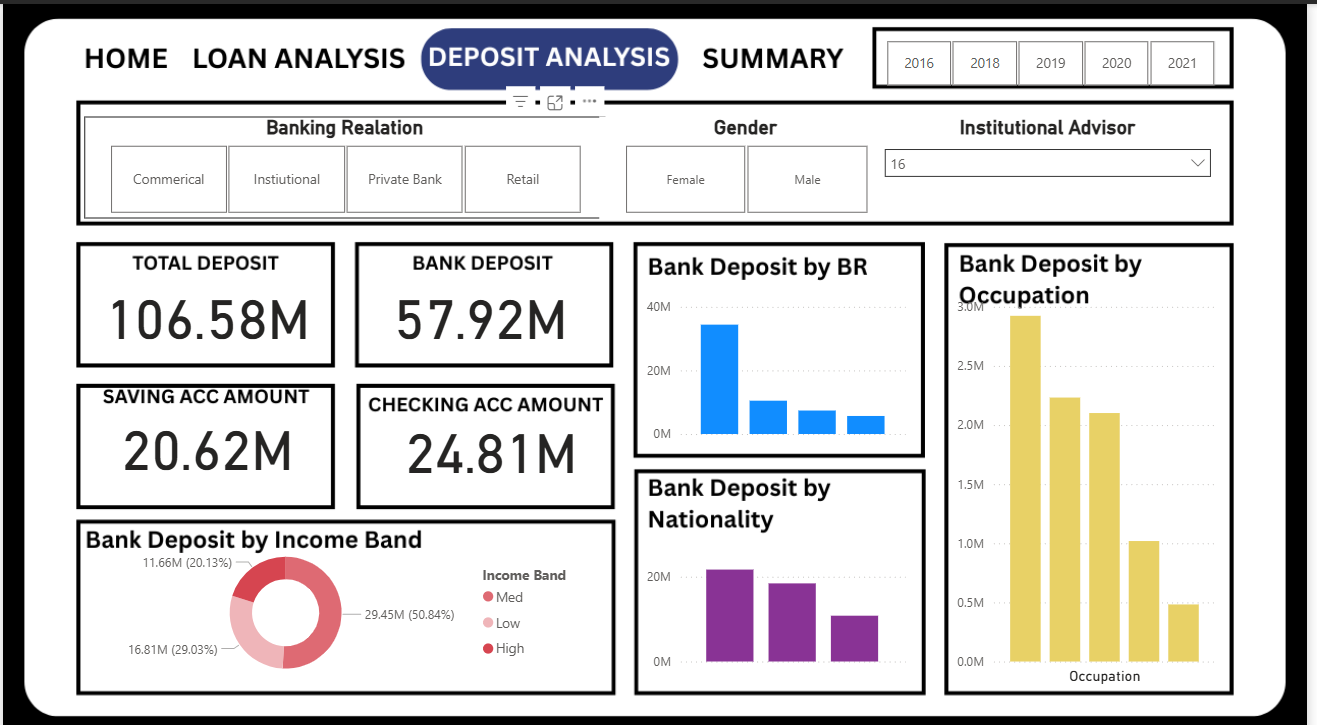

Layout of this report page (visuals, bound fields, positions):
{"tool":"powerbi","page":{"name":"DEPOSIT ANA","canvas":[1280,720],"ordinal":2},"visuals":[{"type":"slicer","title":"JOINING YEAR","fields":{"Values":["Banking_Clients.Joined Bank.Variation.Date Hierarchy.Year"]},"box":[841.4,30,371.4,57.1],"z":0},{"type":"actionButton","box":[67.1,30,101.4,45.7],"z":1},{"type":"actionButton","box":[168.6,35.7,245.7,45.7],"z":2},{"type":"actionButton","box":[680,30,151.4,45.7],"z":3},{"type":"card","title":"TOTAL LOAN","fields":{"Values":["Banking_Clients.Total Depost"]},"box":[77.1,282.9,247.1,60],"z":4},{"type":"card","title":"TOTAL LOAN","fields":{"Values":["Sum(Banking_Clients.Bank Deposits)"]},"box":[344.3,282.9,247.1,61.4],"z":5},{"type":"card","title":"TOTAL LOAN","fields":{"Values":["Sum(Banking_Clients.Saving Accounts)"]},"box":[77.1,410,247.1,65.7],"z":6},{"type":"card","title":"TOTAL LOAN","fields":{"Values":["Sum(Banking_Clients.Checking Accounts)"]},"box":[355.7,414.3,247.1,61.4],"z":7},{"type":"donutChart","fields":{"Category":["Banking_Clients.Income Band"],"Y":["Sum(Banking_Clients.Bank Deposits)"]},"box":[80,522.9,495.7,150],"z":8},{"type":"clusteredColumnChart","fields":{"Category":["Banking_Clients.BRId"],"Y":["Sum(Banking_Clients.Bank Deposits)"]},"box":[627.1,282.9,264.3,152.9],"z":9},{"type":"clusteredColumnChart","fields":{"Category":["Banking_Clients.Nationality"],"Y":["Sum(Banking_Clients.Bank Deposits)"]},"box":[627.1,507.1,264.3,152.9],"z":10},{"type":"clusteredColumnChart","fields":{"Category":["Banking_Clients.Occupation"],"Y":["Sum(Banking_Clients.Bank Deposits)"]},"box":[931.4,282.9,264.3,390],"z":11},{"type":"slicer","title":"Banking Realation","fields":{"Values":["Banking_Clients.BRId"]},"box":[80,110,511.4,101.4],"z":12},{"type":"slicer","title":"Gender","fields":{"Values":["Banking_Clients.GenderId"]},"box":[585.7,110,287.1,101.4],"z":13},{"type":"slicer","title":"Institutional Advisor","fields":{"Values":["Banking_Clients.IAId"]},"box":[855.7,110,340,101.4],"z":14}]}

Visuals, with their boxes in screenshot pixels (x1, y1, x2, y2), scaled from the page's 1280x720 canvas onto the 1317x725 screenshot:
"JOINING YEAR" slicer: (left=866, top=30, right=1248, bottom=88)
actionButton: (left=69, top=30, right=173, bottom=76)
actionButton: (left=173, top=36, right=426, bottom=82)
actionButton: (left=700, top=30, right=855, bottom=76)
"TOTAL LOAN" card: (left=79, top=285, right=334, bottom=345)
"TOTAL LOAN" card: (left=354, top=285, right=608, bottom=347)
"TOTAL LOAN" card: (left=79, top=413, right=334, bottom=479)
"TOTAL LOAN" card: (left=366, top=417, right=620, bottom=479)
donutChart - Banking_Clients.Income Band x Sum(Banking_Clients.Bank Deposits): (left=82, top=527, right=592, bottom=678)
clusteredColumnChart - Banking_Clients.BRId x Sum(Banking_Clients.Bank Deposits): (left=645, top=285, right=917, bottom=439)
clusteredColumnChart - Banking_Clients.Nationality x Sum(Banking_Clients.Bank Deposits): (left=645, top=511, right=917, bottom=665)
clusteredColumnChart - Banking_Clients.Occupation x Sum(Banking_Clients.Bank Deposits): (left=958, top=285, right=1230, bottom=678)
"Banking Realation" slicer: (left=82, top=111, right=608, bottom=213)
"Gender" slicer: (left=603, top=111, right=898, bottom=213)
"Institutional Advisor" slicer: (left=880, top=111, right=1230, bottom=213)
